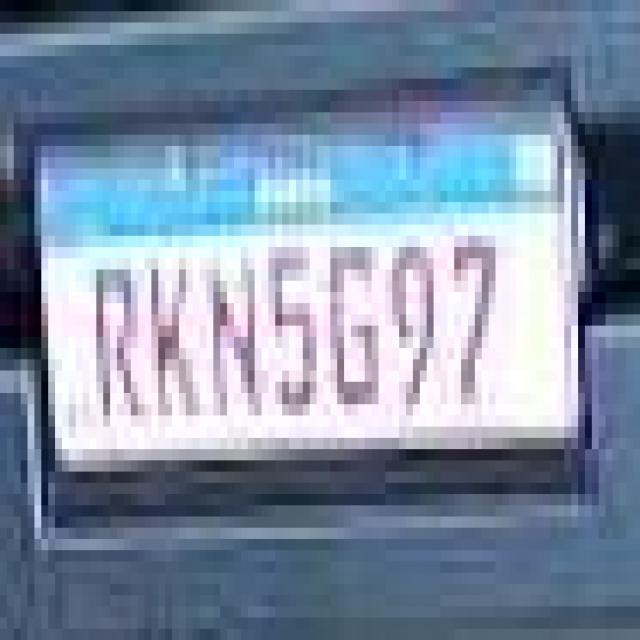5: (259, 241, 324, 421)
7: (445, 230, 504, 413)
9: (384, 237, 444, 415)
G: (325, 236, 386, 415)
K: (142, 249, 198, 426)
N: (202, 251, 264, 422)
R: (87, 259, 145, 423)
